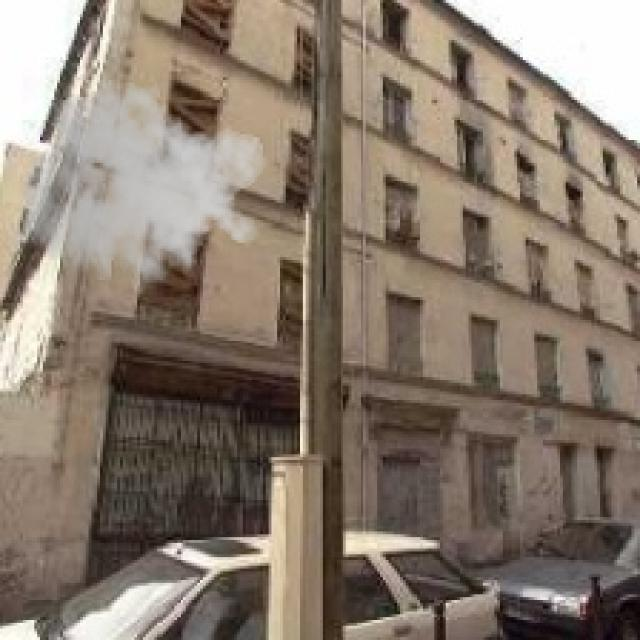smoke: (17, 69, 269, 308)
